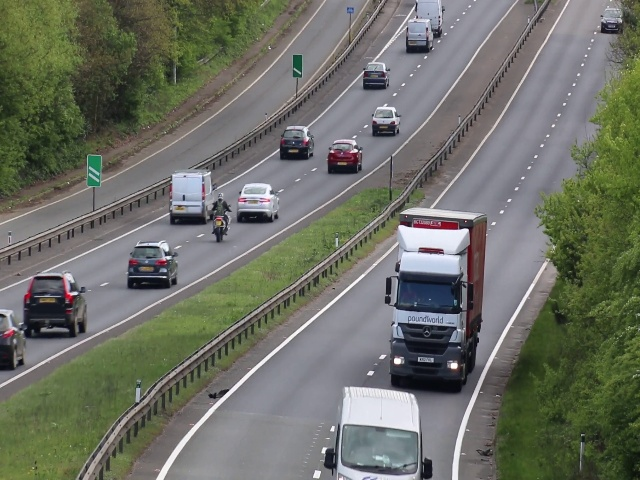car: (392, 207, 481, 388), (333, 388, 425, 480), (23, 273, 89, 336), (127, 240, 179, 288), (169, 170, 211, 224), (237, 182, 277, 219), (1, 310, 28, 363), (278, 124, 314, 159), (327, 139, 364, 173), (371, 103, 400, 136), (404, 20, 434, 51), (363, 60, 389, 90), (600, 8, 623, 33)
